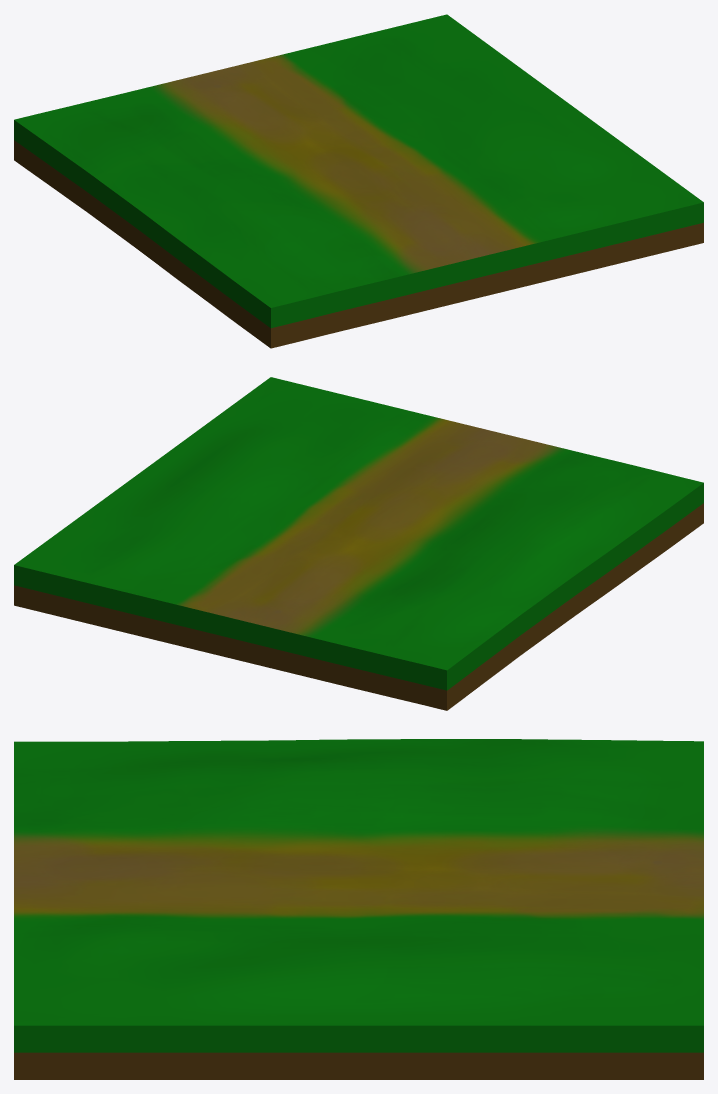
Rendered from Land_1(Fix).fbx.
3 renders of one model, top to bottom at view 1: azimuth 30°, elevation 25°; view 2: azimuth 150°, elevation 25°; view 3: azimuth 270°, elevation 25°, orthographic. The views are drawn at different scales.
Visible parts, largest first — view 1: Plane.004; view 2: Plane.004; view 3: Plane.004.
Part boxes in pixels (<box>): Plane.004: <box>14,14,703,348</box>; Plane.004: <box>14,377,703,710</box>; Plane.004: <box>14,739,703,1079</box>.
Bounding box in the file's own units: 4295 × 481 × 4411.
